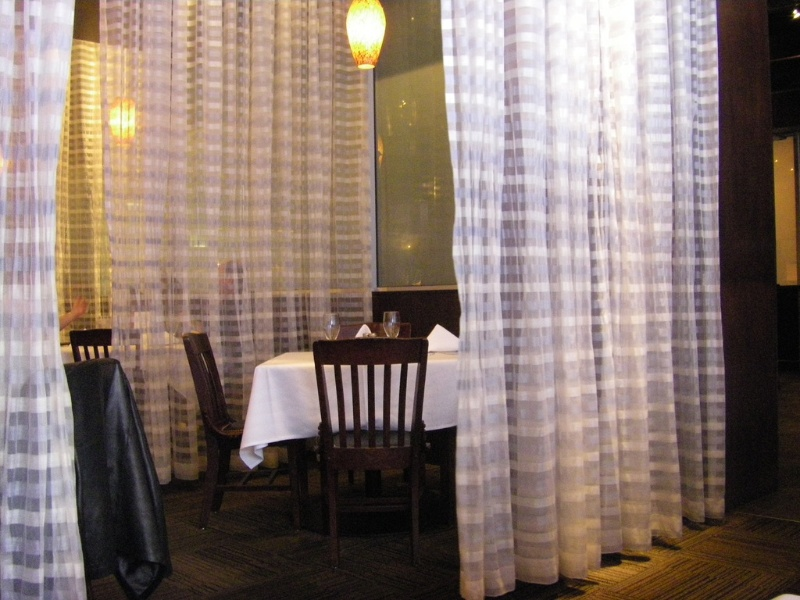chair: (305, 333, 433, 562), (169, 323, 295, 528)
dining table: (188, 304, 469, 519)
